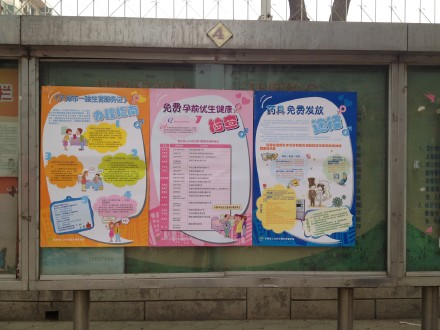bill: (40, 86, 149, 246), (253, 89, 358, 245), (150, 87, 253, 245)
